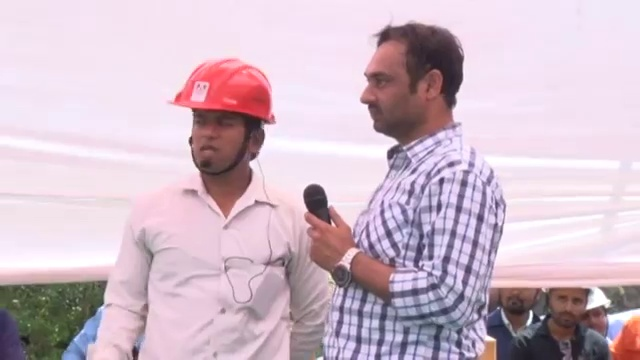helmet: (161, 53, 274, 124), (586, 287, 613, 316)
helmet_off: (358, 27, 469, 140), (547, 290, 591, 330), (499, 284, 540, 314)
helmet_on: (163, 47, 275, 196), (581, 287, 614, 336)
person: (83, 47, 329, 360), (303, 24, 507, 358), (502, 290, 611, 360), (485, 283, 553, 360)
